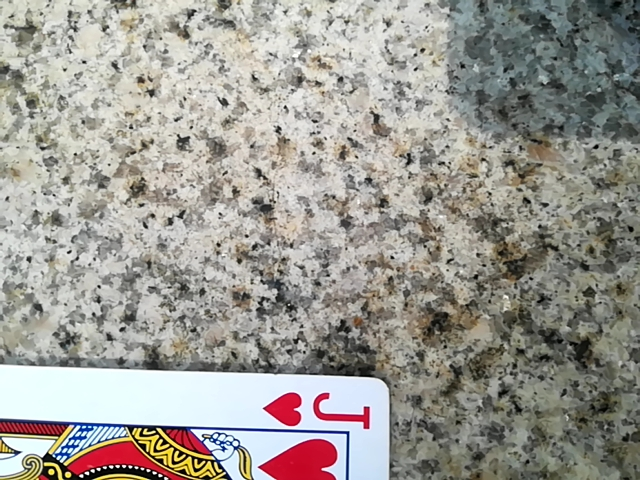hx j: (0, 366, 409, 480)
